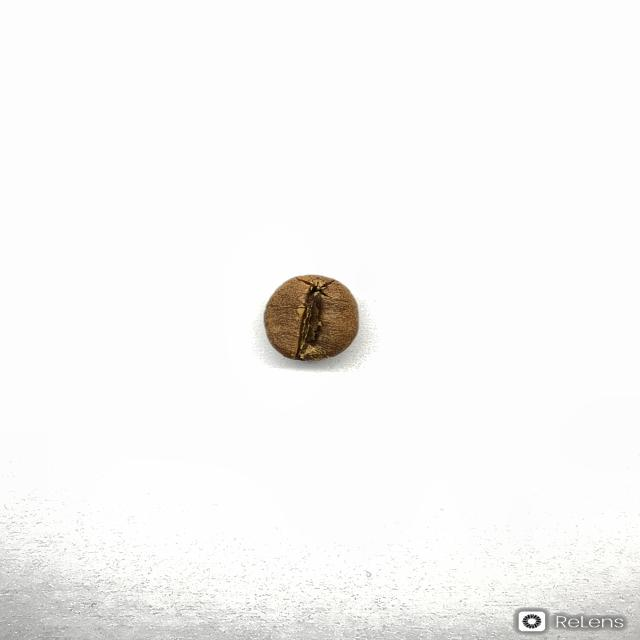Good bean: (262, 273, 360, 362)
